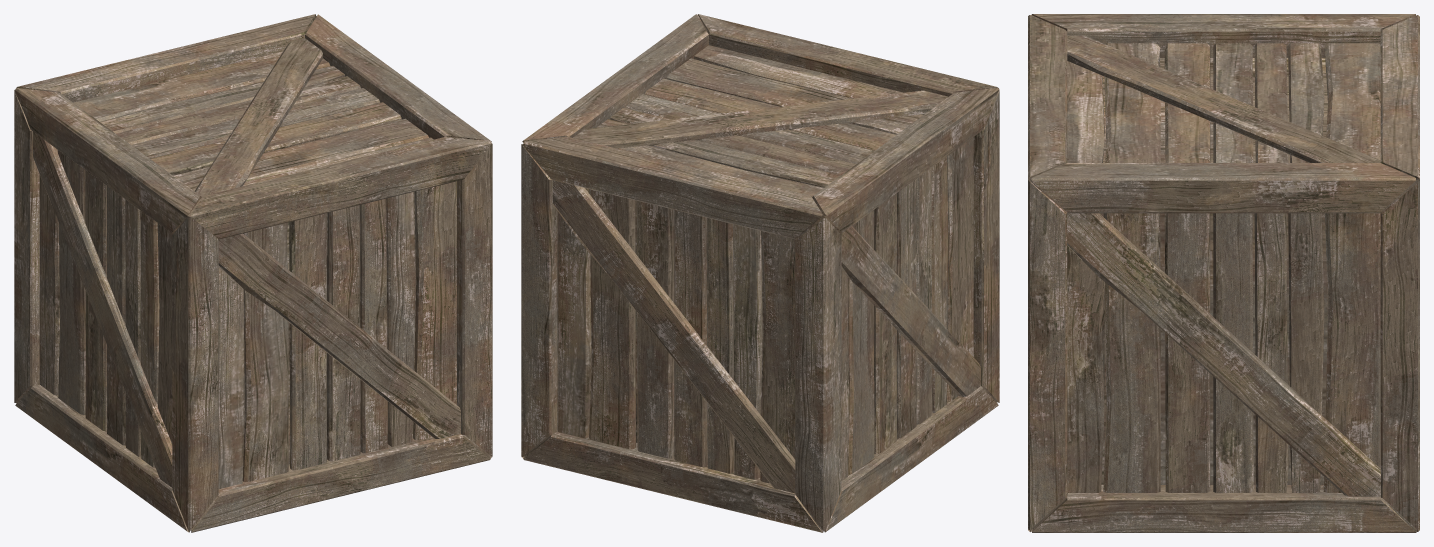
File: SM_Crate_B_01.fbx
3 views of the same model, side by side, from view 1: azimuth 30°, elevation 25°; view 2: azimuth 150°, elevation 25°; view 3: azimuth 270°, elevation 25° (orthographic). The views are drawn at different scales.
Parts seen in each view (by area): view 1: SM_Crate_B_01_LOD0; view 2: SM_Crate_B_01_LOD0; view 3: SM_Crate_B_01_LOD0.
Boxes of the visible parts, x1,y1,x2,y2 form: SM_Crate_B_01_LOD0: (14, 14, 492, 532); SM_Crate_B_01_LOD0: (521, 14, 999, 532); SM_Crate_B_01_LOD0: (1028, 14, 1419, 532).
Bounding box in the file's own units: 60.1 × 60.1 × 60.1.
1 material, 1 textured.
